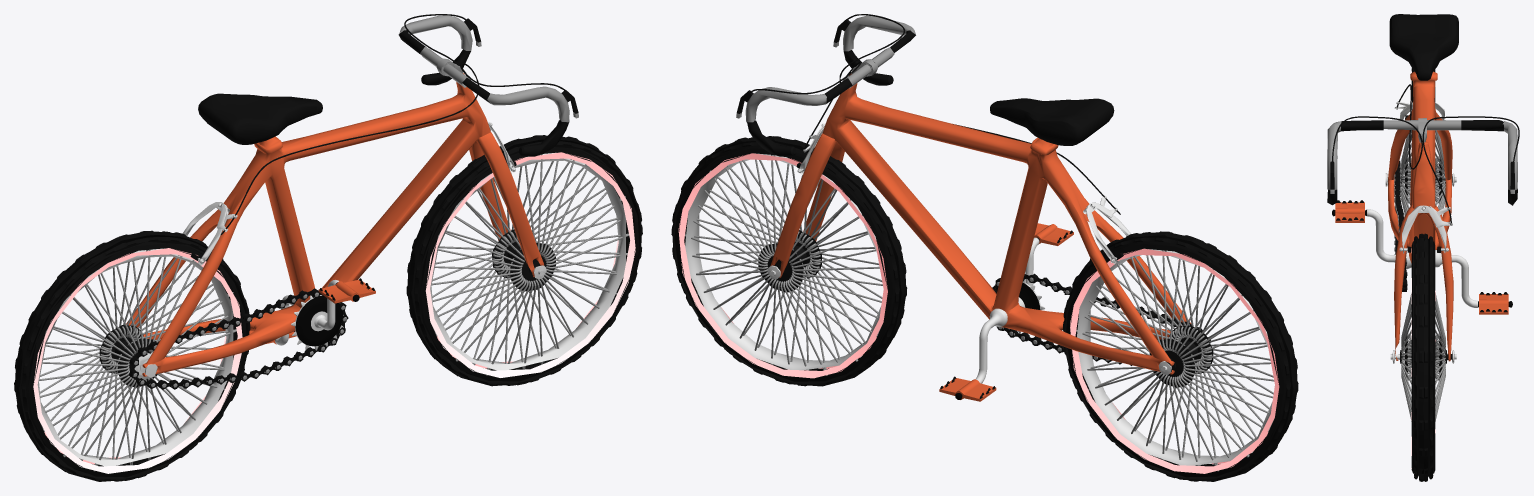
File: bike.glb
3 views of the same model, side by side, from view 1: azimuth 30°, elevation 25°; view 2: azimuth 150°, elevation 25°; view 3: azimuth 270°, elevation 25° (orthographic). The views are drawn at different scales.
Visible parts, largest first — view 1: Cube.002, F_Pneu, B_Pneu, F_Raios, B_Raios, Cylinder.003, Cube, Cylinder.002, Cylinder, F_Eixo, B_Eixo, NurbsCurve (+2 smaller); view 2: Cube.002, B_Pneu, F_Pneu, F_Raios, B_Raios, Cylinder.003, Cube, Cylinder, B_Eixo, F_Eixo, Cylinder.002, Pedal_E (+1 smaller); view 3: Cube.002, F_Pneu, Cylinder.003, Cube, F_Raios, Cylinder, B_Raios, BreakF, Pedal_E, Pedal_E.001, Cylinder.002, NurbsCurve (+4 smaller).
Part boxes in pixels (box(x1,y1,x2,y2)): Cube.002: box(126, 73, 544, 376); F_Pneu: box(406, 135, 642, 386); B_Pneu: box(14, 230, 250, 481); F_Raios: box(431, 152, 629, 375); B_Raios: box(39, 248, 236, 471); Cylinder.003: box(398, 15, 578, 156); Cube: box(198, 93, 322, 144); Cylinder.002: box(129, 288, 348, 389); Cylinder: box(275, 279, 359, 350); F_Eixo: box(492, 229, 555, 291); B_Eixo: box(99, 325, 157, 387); NurbsCurve: box(221, 63, 565, 234); Cube.002: box(770, 73, 1191, 374); B_Pneu: box(1062, 231, 1298, 481); F_Pneu: box(671, 136, 907, 386); F_Raios: box(685, 153, 882, 375); B_Raios: box(1076, 249, 1274, 471); Cylinder.003: box(736, 16, 915, 156); Cube: box(990, 98, 1114, 145); Cylinder: box(955, 237, 1044, 399); B_Eixo: box(1149, 325, 1213, 387); F_Eixo: box(758, 230, 821, 292); Cylinder.002: box(992, 273, 1210, 365); Pedal_E: box(939, 376, 996, 401); Cube.002: box(1388, 71, 1453, 361); F_Pneu: box(1411, 233, 1435, 481); Cylinder.003: box(1327, 118, 1517, 205); Cube: box(1389, 14, 1458, 80); F_Raios: box(1401, 292, 1445, 421); Cylinder: box(1332, 209, 1512, 307); B_Raios: box(1401, 130, 1445, 215); BreakF: box(1399, 205, 1450, 253); Pedal_E: box(1479, 292, 1508, 314); Pedal_E.001: box(1335, 200, 1364, 222); Cylinder.002: box(1394, 160, 1407, 291); NurbsCurve: box(1332, 84, 1422, 169).
Size of the model in its own units: 4.7 by 2.5 by 1.36.
